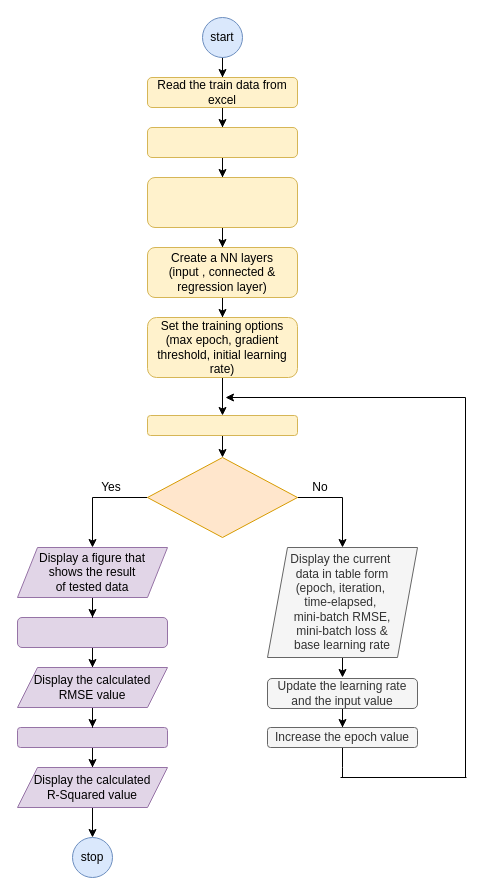
Image size: 491x895. Some labels were removed from this diagram. Each missing label, with the centre of its shape:
"Calculate R-Squared" goes at pixel 92 737.
"Calculate Root Mean Square Error (RMSE)" goes at pixel 92 632.
"Does the max epoch has met ?" goes at pixel 222 497.
"Read the test data from excel" goes at pixel 222 142.
"Run the network per epoch" goes at pixel 222 425.
"Set the parameter (inputSize, numResponse, numHiddenUnits)" goes at pixel 222 202.
